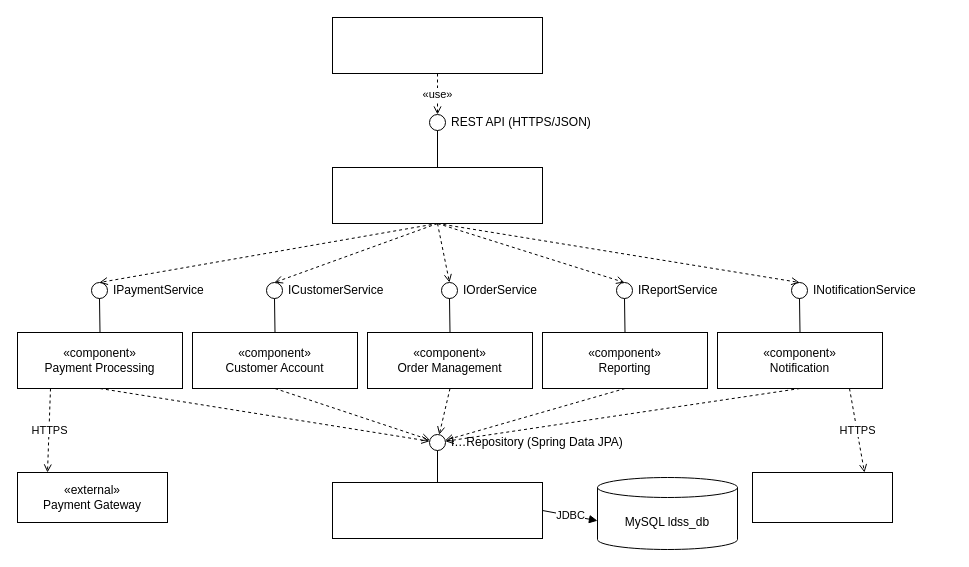
Some shapes in this 969 by 567 pixel diagram are drawn without their labels. Each missing label, with the centre of its shape:
«component» API Controllers: (x=437, y=195)
«component» Data Access (Repositories): (x=437, y=510)
«component» LDSS Web UI (React): (x=437, y=45)
«external» SMS/E-mail GW: (x=822, y=497)
